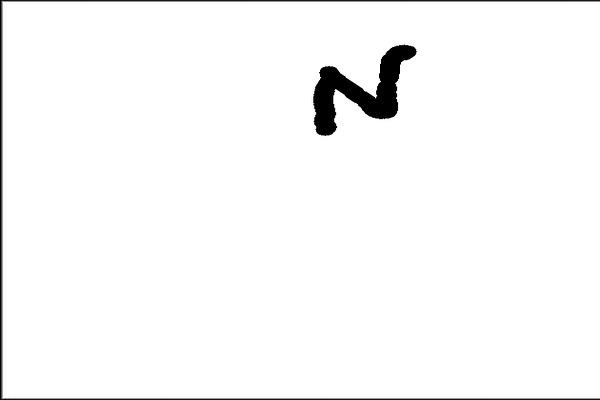N: (308, 39, 419, 141)
